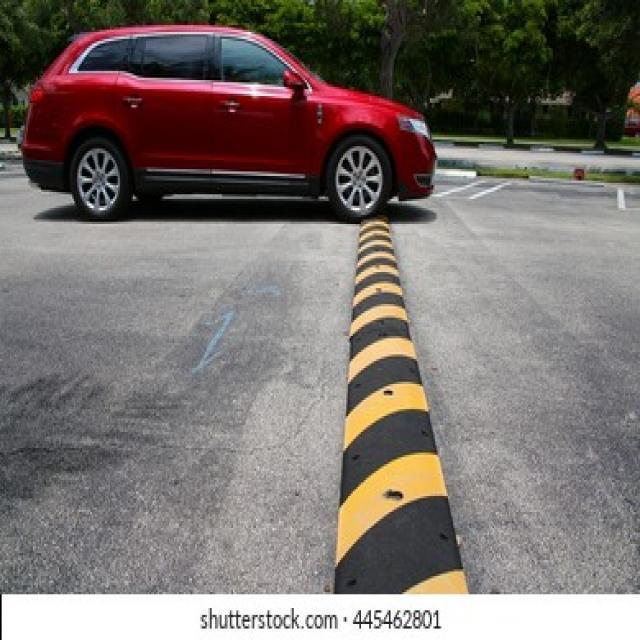Marked Bump: (345, 223, 498, 587)
